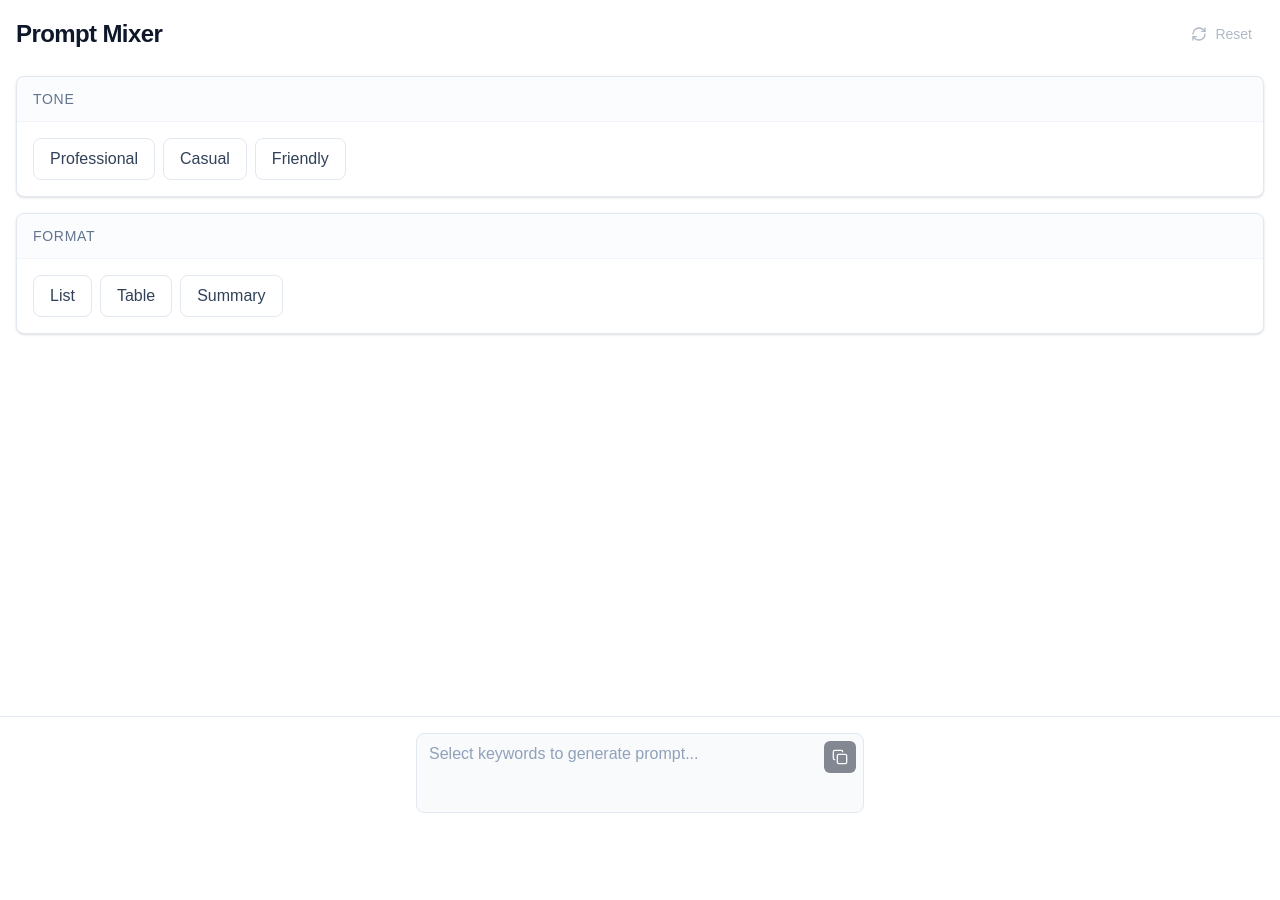
Test case: Home Page › copies generated prompt to clipboard and history
Expected: the heading "Tone" is shown, [33,91,74,107]
# Select a keyword
Click the button "Professional" at (94, 159), box [33,138,155,180]
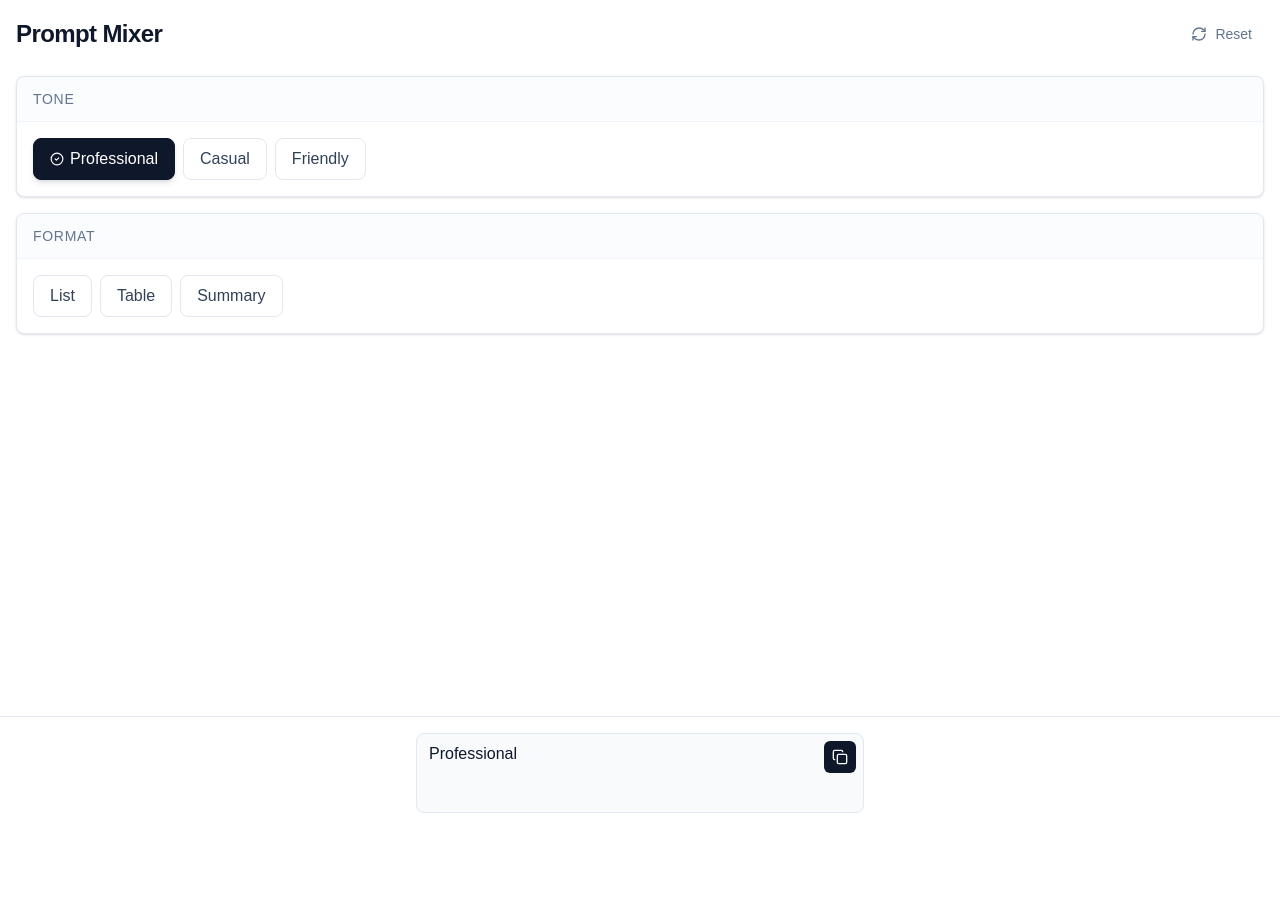
# Click copy
Click the button named "copy prompt" at (840, 757), box [824,741,856,773]
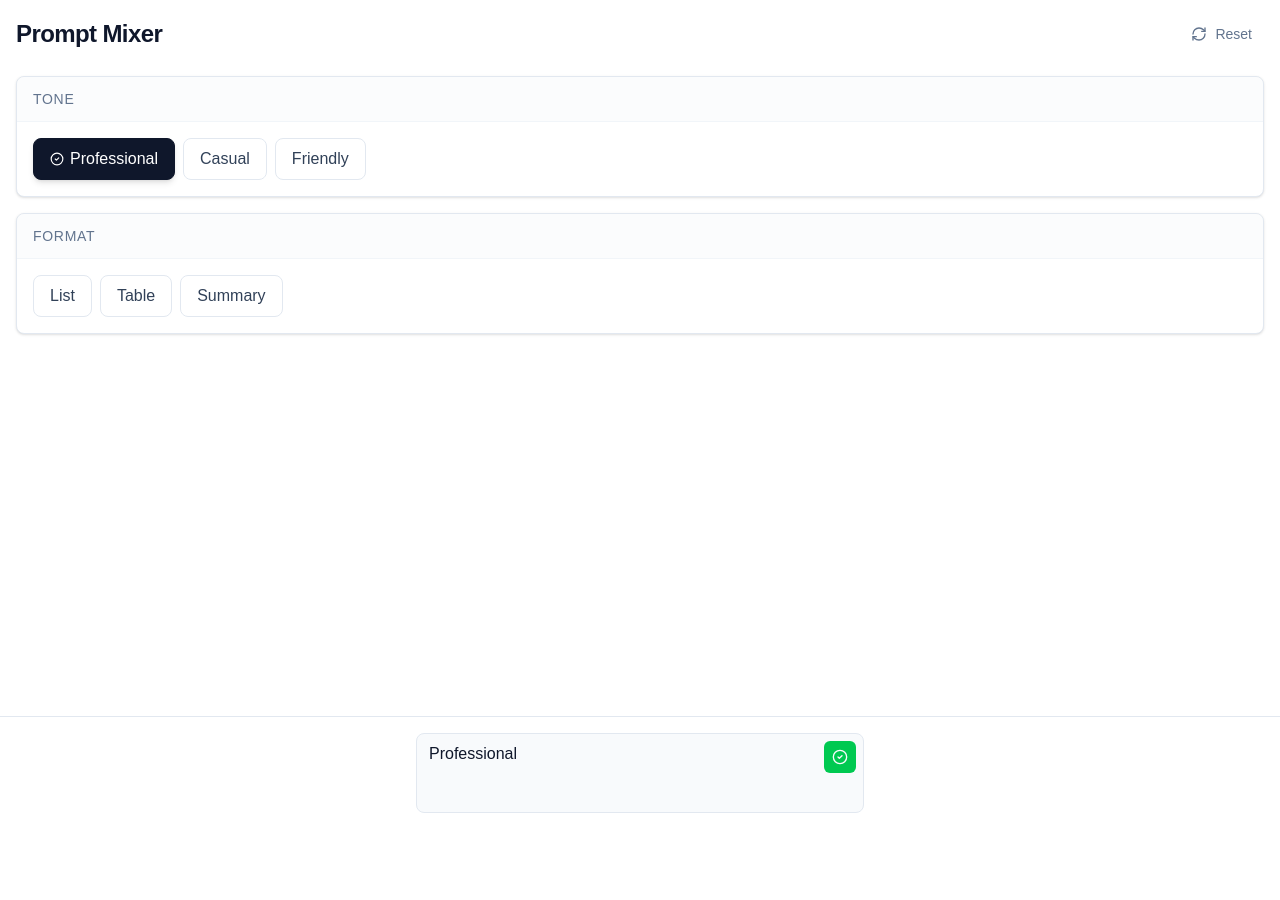
Result: the button named "copied" is shown at [824,741,856,773]
